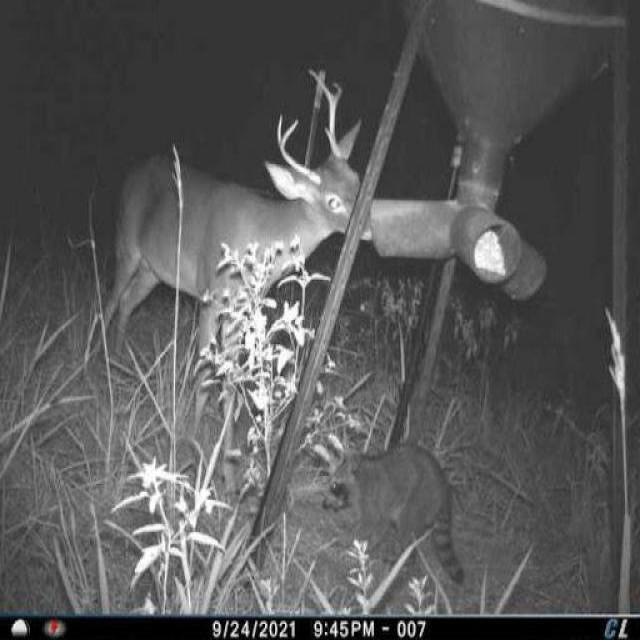deer: (84, 65, 372, 520)
